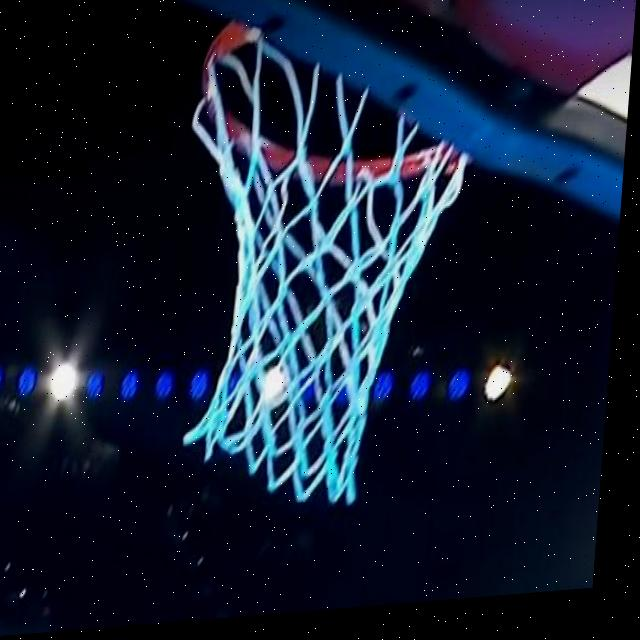hoop: (139, 1, 478, 537)
